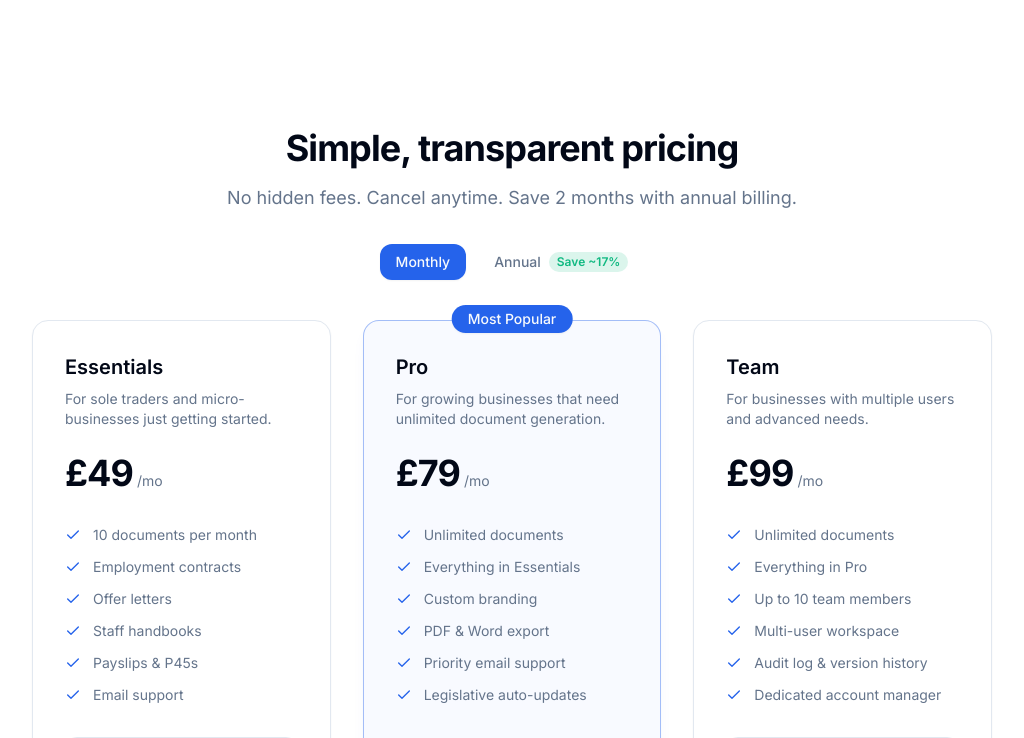
Test case: Pricing Component › shows annual prices when toggle is clicked
Click the button "Annual Save ~17%" at (561, 262), box [478,244,644,280]
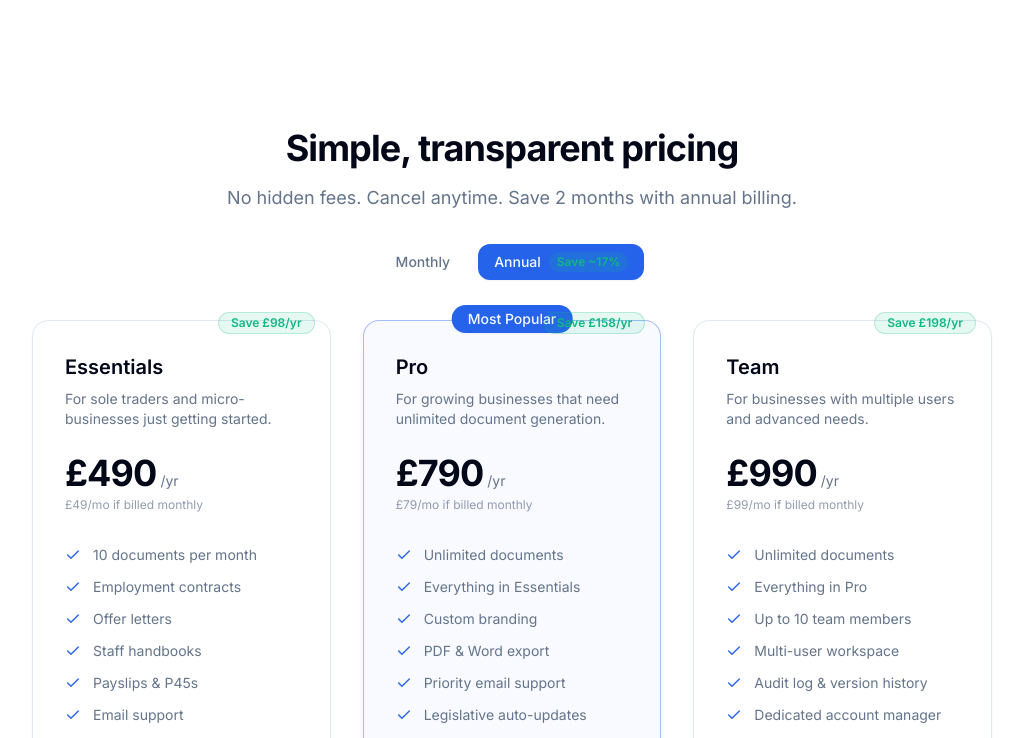
Expected: the text "£490" is shown, [65,453,156,493]
Expected: the text "£790" is shown, [396,453,483,493]
Expected: the text "£990" is shown, [726,453,817,493]
